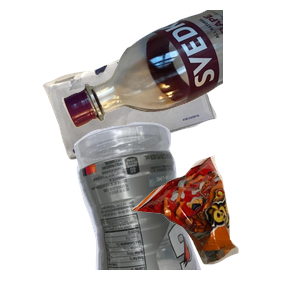glass: (60, 10, 300, 130)
paper: (40, 35, 249, 187)
plastic: (71, 120, 265, 300)
trash: (130, 153, 300, 300)
